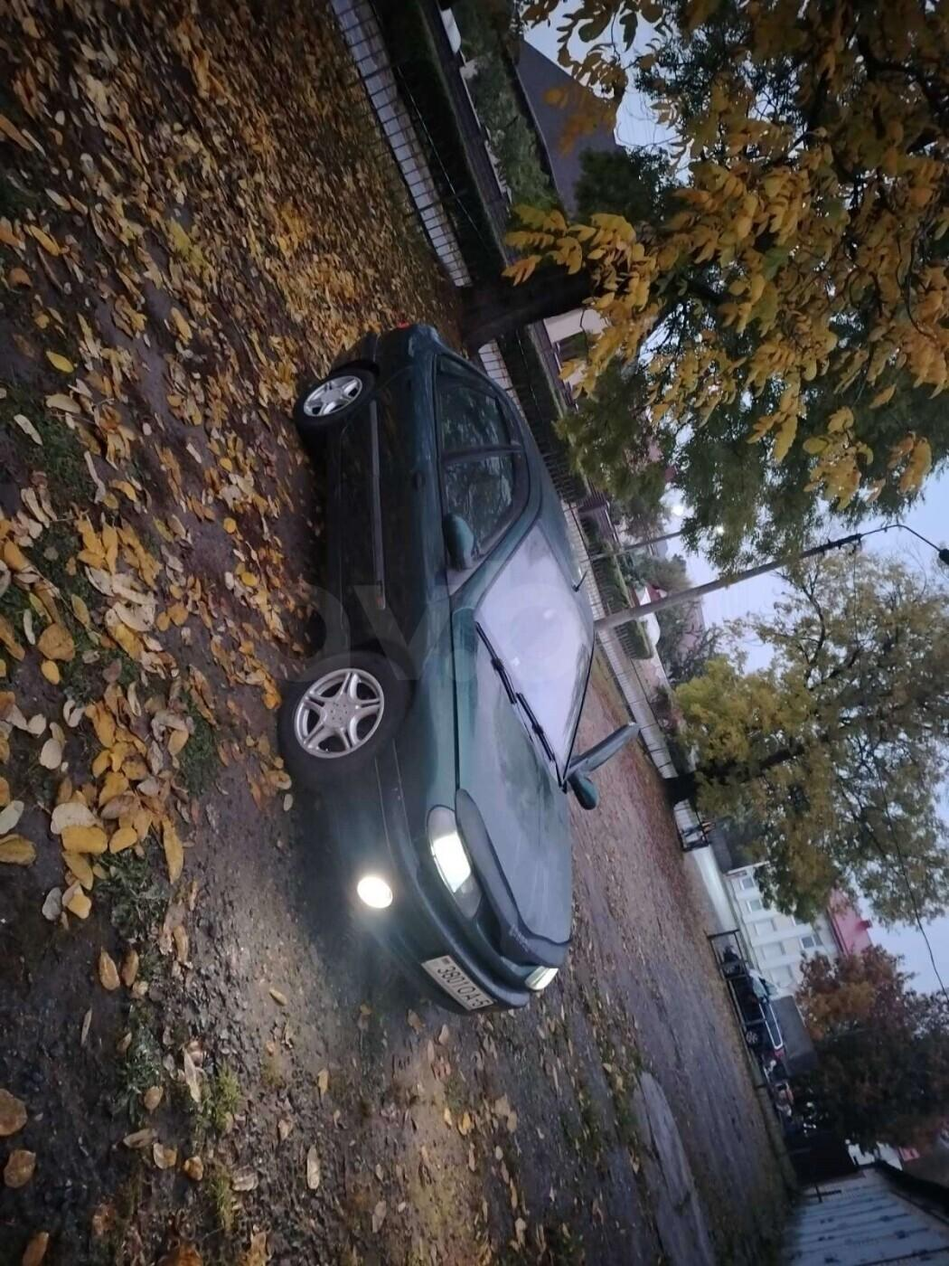Laguna_1998-2001: (295, 311, 609, 1035)
